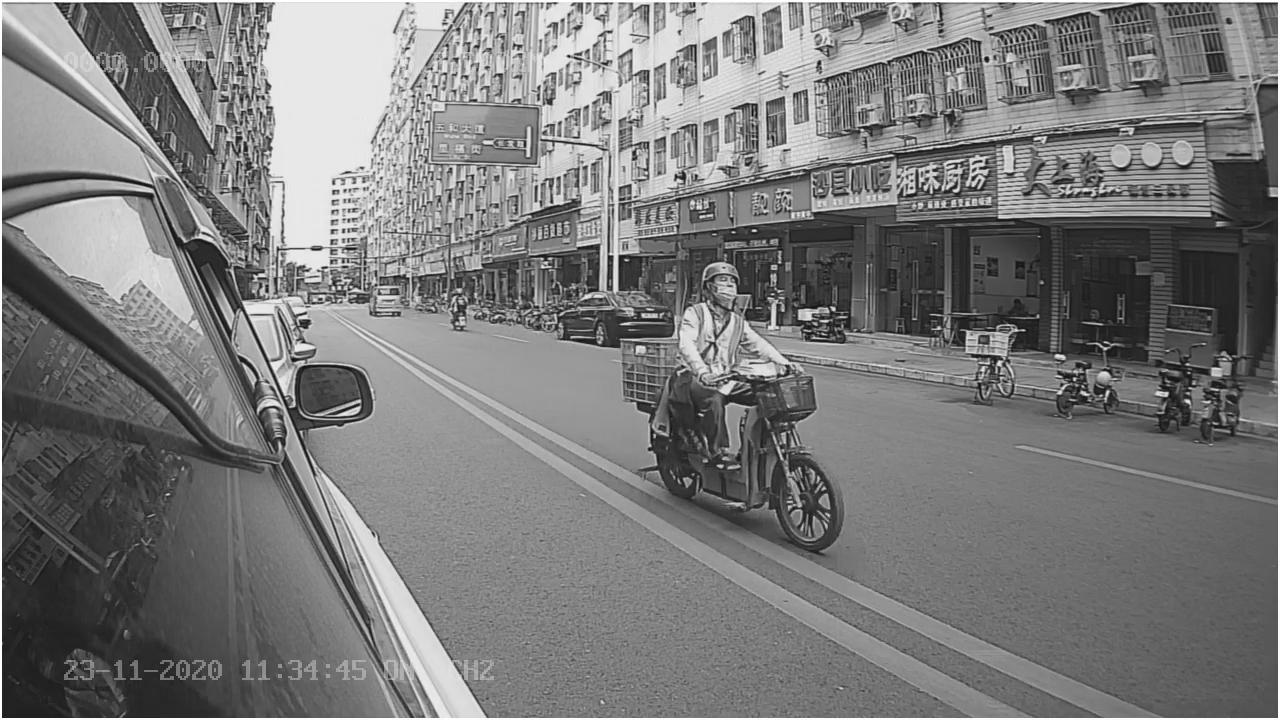person: (675, 257, 796, 382)
